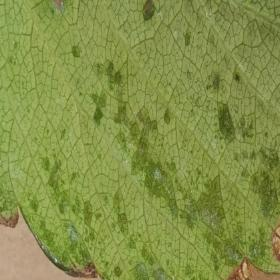Angular Leafspot: (0, 0, 279, 279)
